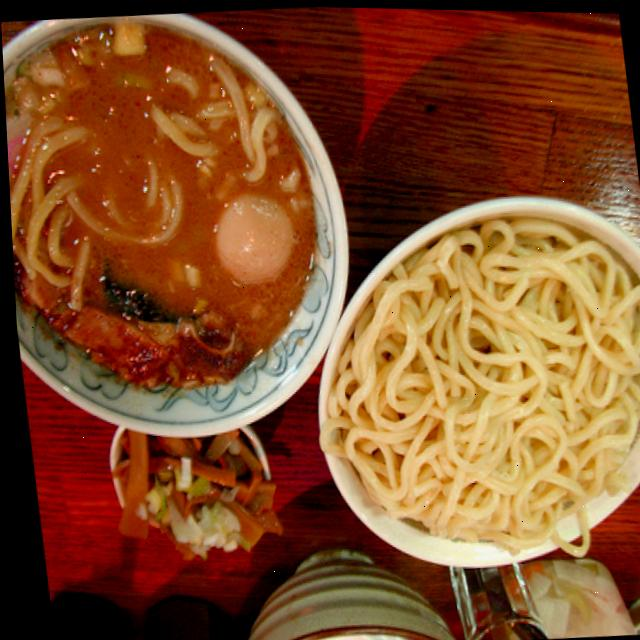面条主食: (0, 0, 640, 584)
